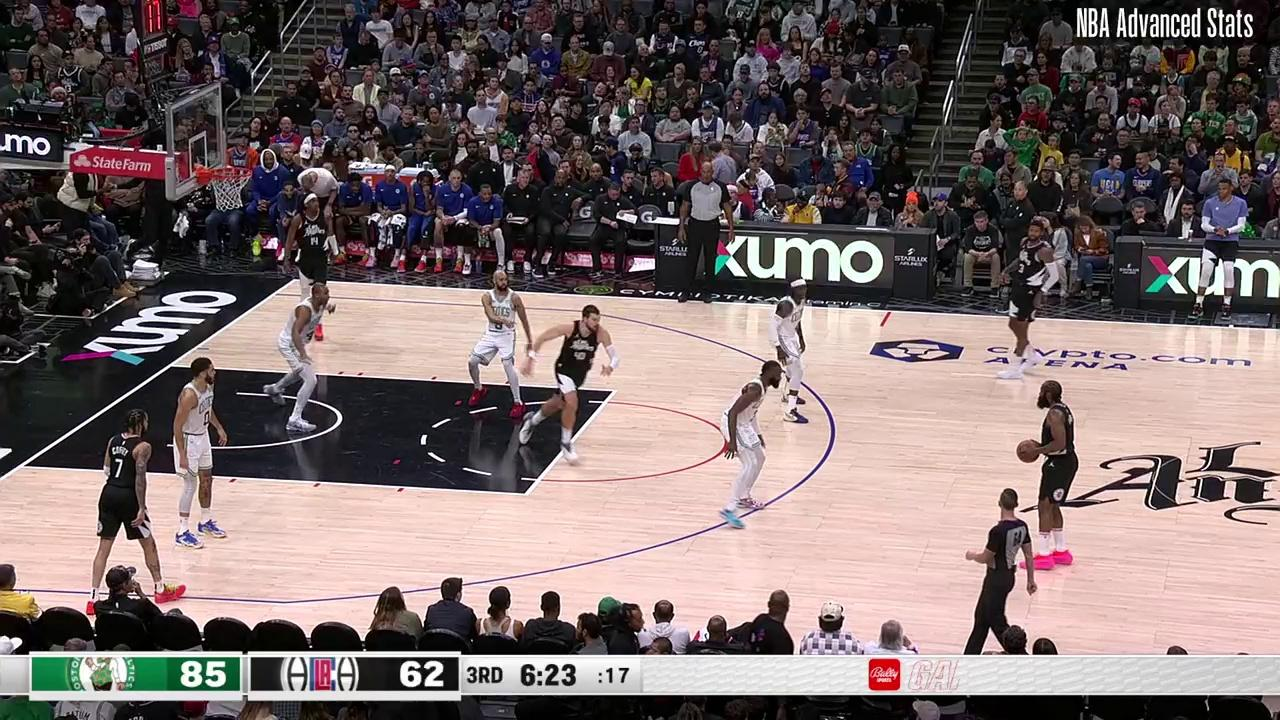3_dx: (269, 291, 278, 299)
b_dx: (290, 276, 299, 284)
free_adx: (610, 386, 620, 396)
free_asx: (520, 488, 533, 501)
free_bdx: (165, 360, 176, 371)
free_bsx: (15, 461, 26, 472)
mid_dx: (877, 322, 886, 330)
mid_sx: (696, 627, 703, 634)
referee: (963, 486, 1039, 648), (673, 160, 733, 302)
team: (168, 355, 235, 548), (265, 284, 334, 432), (723, 360, 782, 533), (466, 270, 532, 420), (774, 277, 816, 425)
team1: (87, 409, 185, 615), (522, 305, 619, 466), (1026, 380, 1078, 571), (1001, 225, 1058, 384), (284, 189, 333, 344)
timer: (518, 652, 579, 691)
